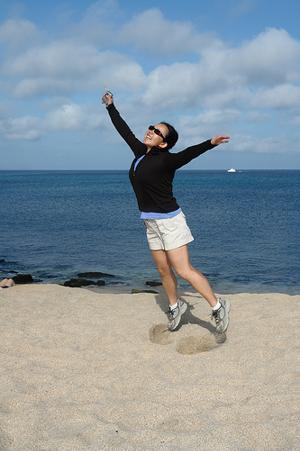person: (103, 91, 232, 334)
